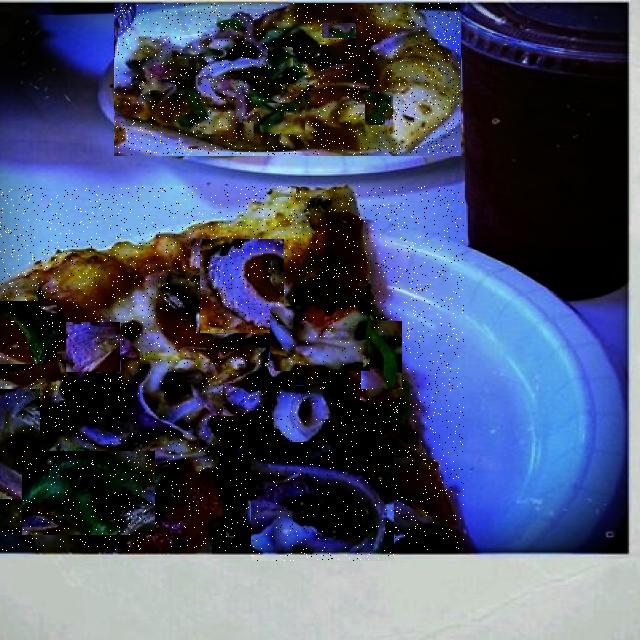Green Pepper: (0, 302, 57, 364), (361, 322, 402, 389), (261, 104, 305, 134), (223, 384, 261, 416), (276, 24, 321, 46), (366, 93, 393, 125), (269, 48, 293, 84), (323, 24, 356, 38), (364, 53, 404, 64)
Onions: (251, 453, 394, 561), (22, 452, 155, 535), (200, 240, 284, 333), (270, 307, 370, 371), (133, 363, 202, 431), (0, 390, 40, 499), (136, 365, 202, 427), (273, 388, 338, 443), (66, 323, 120, 372)
Pizza: (0, 187, 464, 551), (115, 4, 460, 155)
